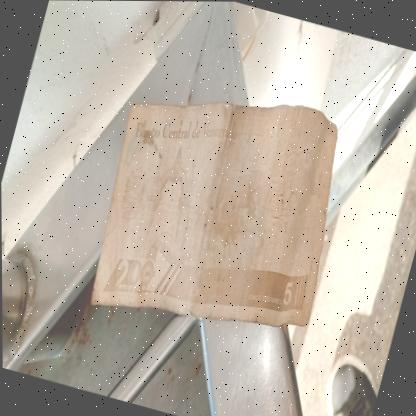five-back-vef: (76, 60, 362, 361)
